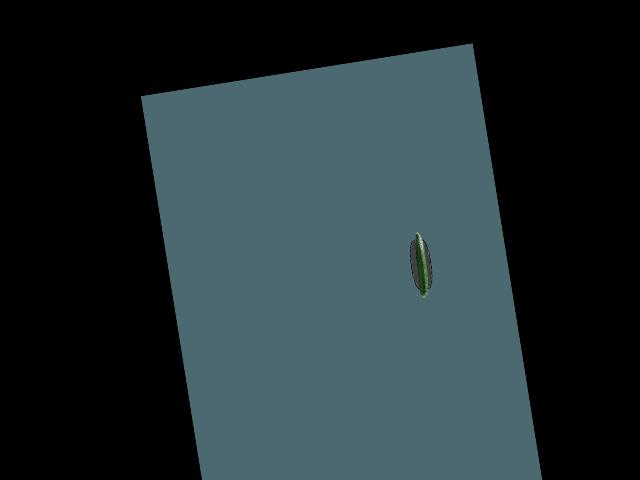cucumber: (410, 230, 431, 298)
